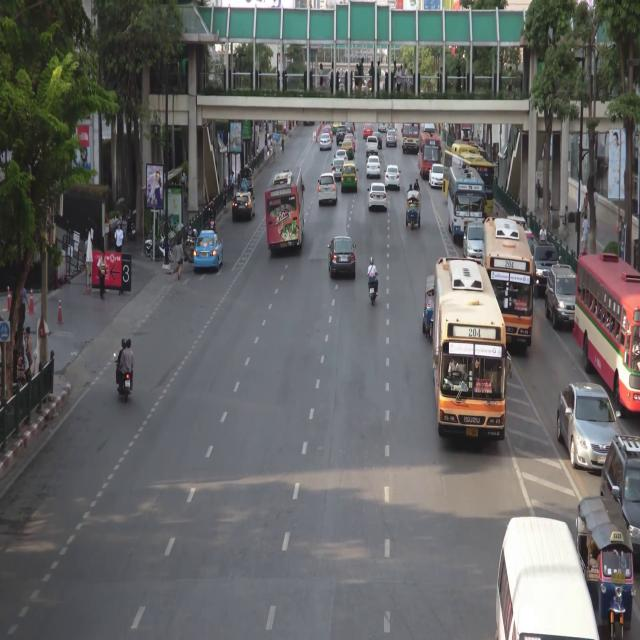bus: (435, 261, 505, 446), (575, 253, 640, 412), (483, 219, 532, 353), (443, 147, 493, 229), (265, 171, 303, 250), (448, 165, 484, 241), (420, 130, 440, 179), (402, 124, 419, 154)
car: (497, 519, 599, 640), (574, 499, 635, 636), (558, 389, 619, 471), (604, 434, 640, 564), (546, 265, 577, 329), (532, 241, 559, 295), (326, 236, 357, 281), (463, 223, 484, 262), (424, 276, 436, 338), (318, 173, 339, 206), (406, 186, 421, 232), (233, 191, 256, 219), (369, 183, 387, 211), (386, 165, 401, 189), (430, 164, 445, 188), (420, 122, 435, 144), (366, 157, 381, 178), (365, 137, 378, 156), (333, 159, 345, 178), (371, 131, 383, 150), (320, 135, 332, 152), (386, 129, 397, 146), (336, 150, 348, 165), (337, 128, 347, 144), (345, 121, 353, 137), (378, 121, 388, 132)
pedestrian: (24, 325, 34, 373), (98, 251, 107, 299), (175, 238, 183, 280), (113, 224, 124, 252), (563, 204, 569, 241), (85, 236, 93, 261), (583, 217, 588, 252), (229, 170, 235, 197), (540, 224, 547, 243), (224, 180, 229, 205), (584, 192, 588, 217), (242, 178, 248, 194), (594, 186, 597, 215), (272, 143, 276, 164), (550, 205, 553, 233), (268, 135, 272, 155), (181, 170, 186, 184), (282, 134, 285, 153)
taxi: (194, 231, 224, 271), (342, 164, 358, 193), (526, 231, 537, 252), (342, 141, 354, 159), (344, 133, 355, 151), (363, 122, 373, 140), (322, 126, 333, 141), (332, 120, 342, 134)
